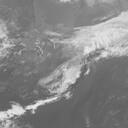cyclone: (38, 38, 91, 100)
